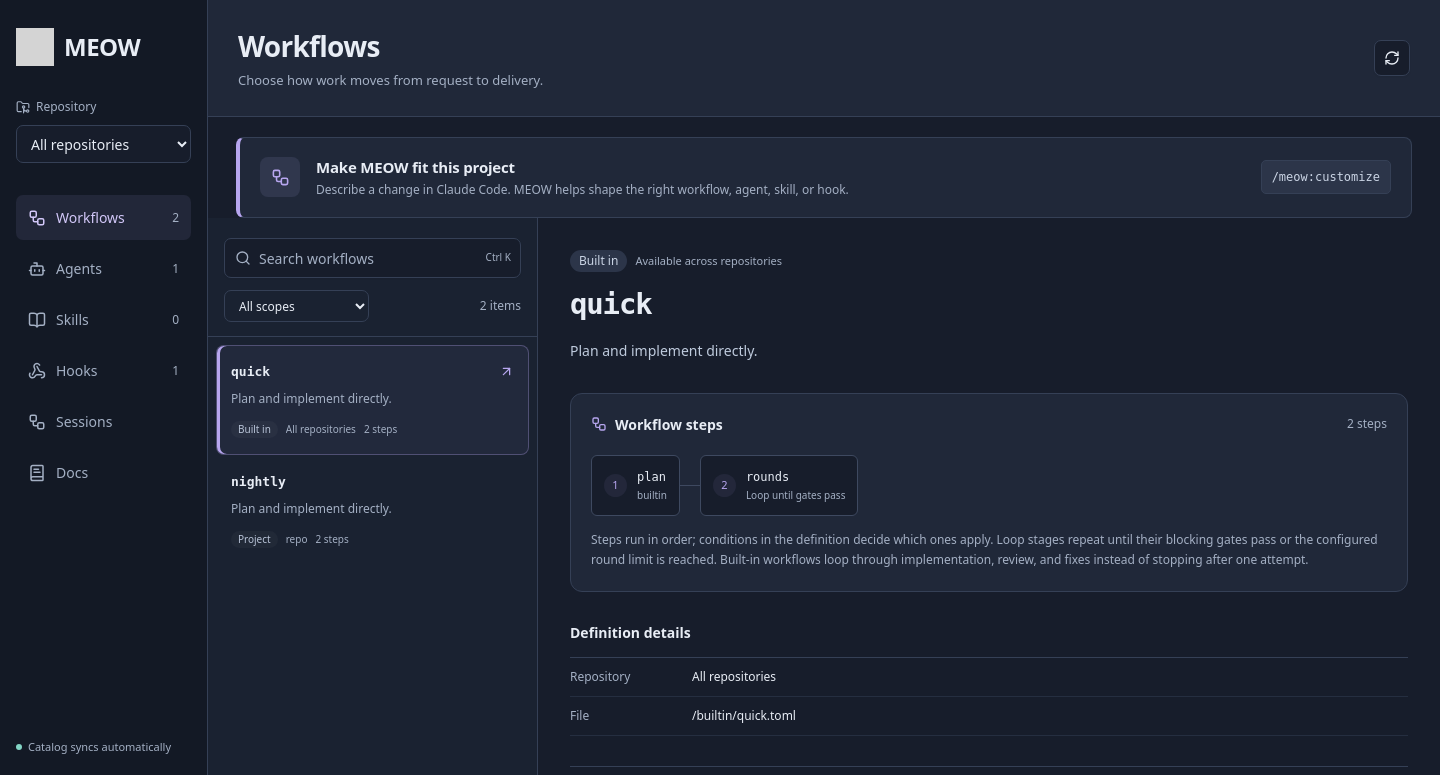
Test: Sessions aggregates repositories and disambiguates duplicate basenames
expect the heading "quick" is shown: met, box [570,287,652,321]
Click the button "Sessions" at (104, 422), box [16,399,191,444]
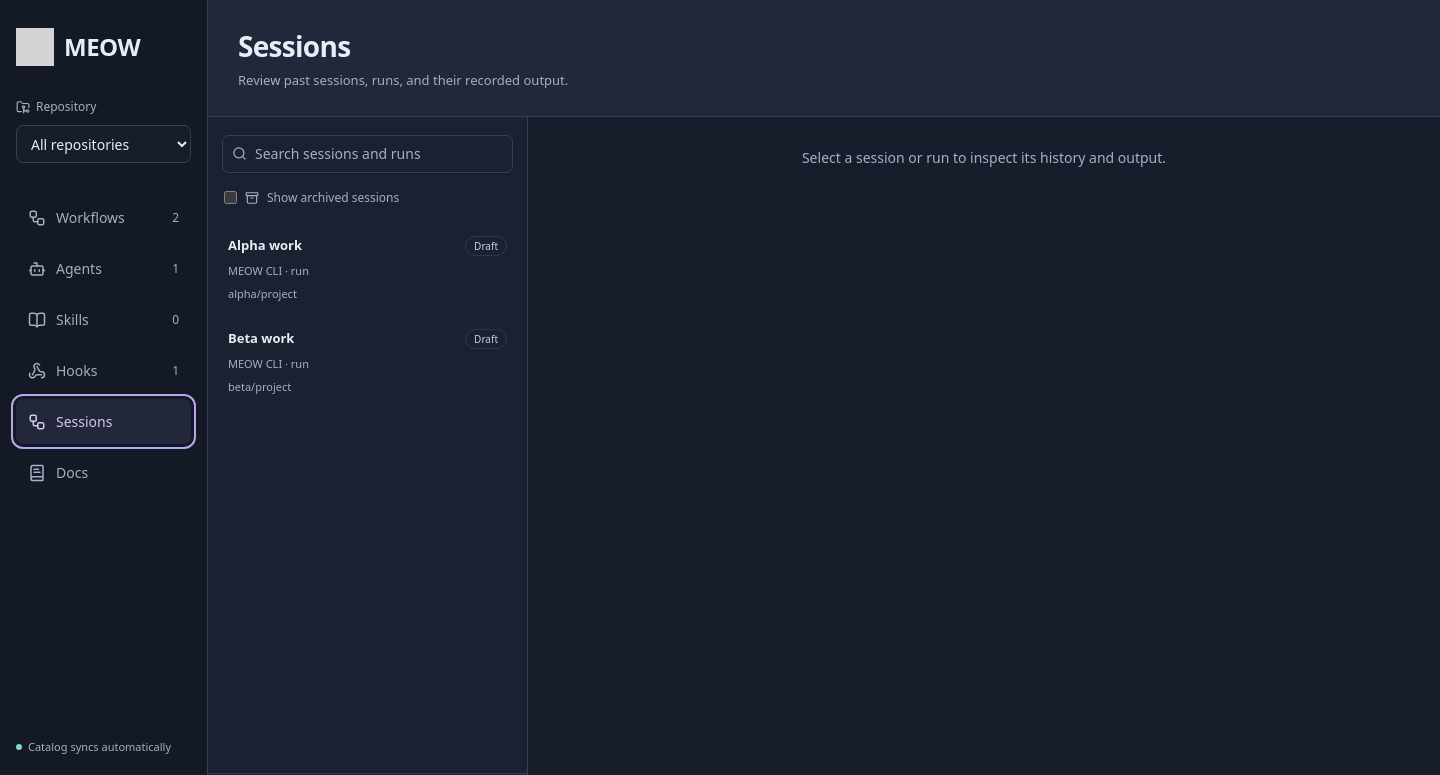
expect the text "Alpha work" is shown: met, box [228,236,302,255]
expect the text "Beta work" is shown: met, box [228,329,294,348]
Select "alpha/project" in the dropdown labelled "Repository" at (104, 144), box [16,125,191,163]
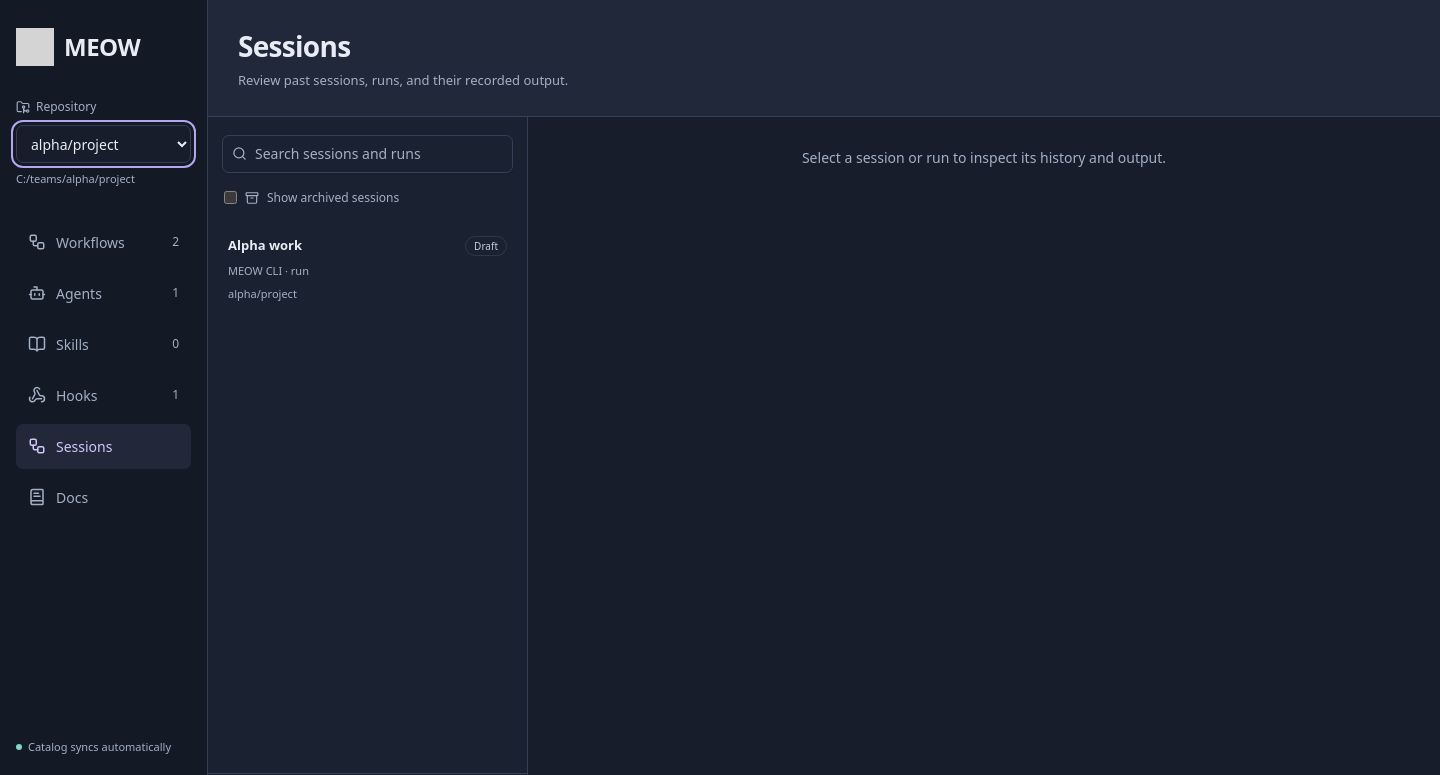
expect the text "Alpha work" is shown: met, box [228,236,302,255]
expect the button "Beta work" is gone: met
